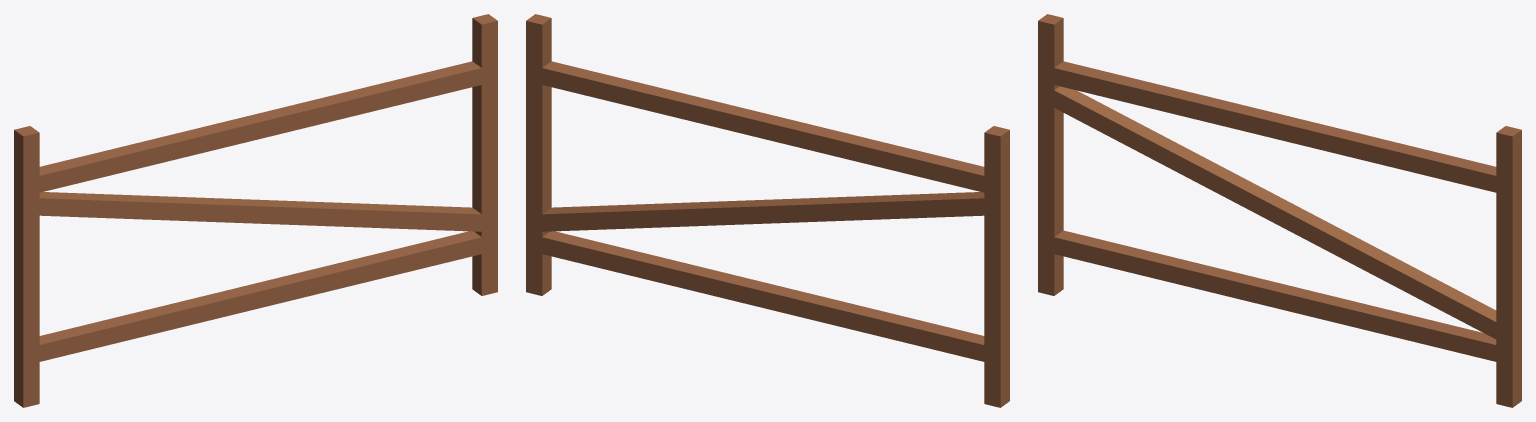
File: new-fence.glb
The picture shows the model from 3 angles, left to right: view 1: azimuth 30°, elevation 25°; view 2: azimuth 150°, elevation 25°; view 3: azimuth 330°, elevation 25°; orthographic projection.
Visible parts, largest first — view 1: Cube, Cube.003, Cube.004, Cube.002, Cube.001; view 2: Cube, Cube.003, Cube.004, Cube.002, Cube.001; view 3: Cube.004, Cube, Cube.003, Cube.001, Cube.002.
Part boxes in pixels (x1=…): Cube: x1=27, y1=61, x2=493, y2=195; Cube.003: x1=27, y1=231, x2=493, y2=364; Cube.004: x1=30, y1=192, x2=490, y2=231; Cube.002: x1=14, y1=126, x2=39, y2=407; Cube.001: x1=472, y1=14, x2=497, y2=295; Cube: x1=530, y1=61, x2=996, y2=195; Cube.003: x1=530, y1=231, x2=996, y2=364; Cube.004: x1=532, y1=192, x2=993, y2=231; Cube.002: x1=984, y1=126, x2=1009, y2=407; Cube.001: x1=526, y1=14, x2=551, y2=295; Cube.004: x1=1045, y1=86, x2=1505, y2=340; Cube: x1=1042, y1=61, x2=1508, y2=195; Cube.003: x1=1042, y1=230, x2=1508, y2=364; Cube.001: x1=1496, y1=126, x2=1521, y2=407; Cube.002: x1=1038, y1=14, x2=1063, y2=295.
Bounding box in the file's own units: 12.42 × 6.79 × 0.422.
